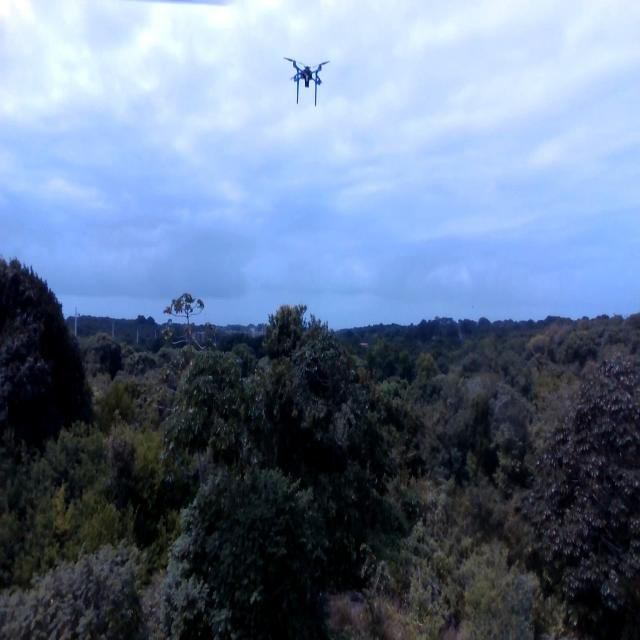-uav-: (275, 43, 342, 127)
